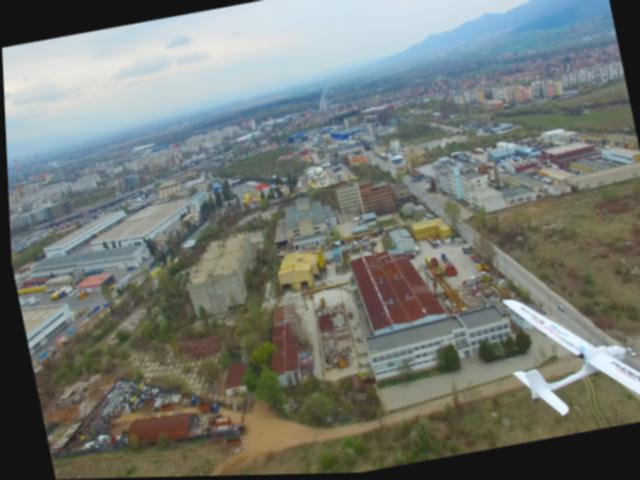plane: (493, 271, 640, 445)
